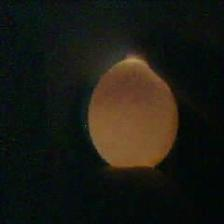infertile: (87, 58, 179, 172)
